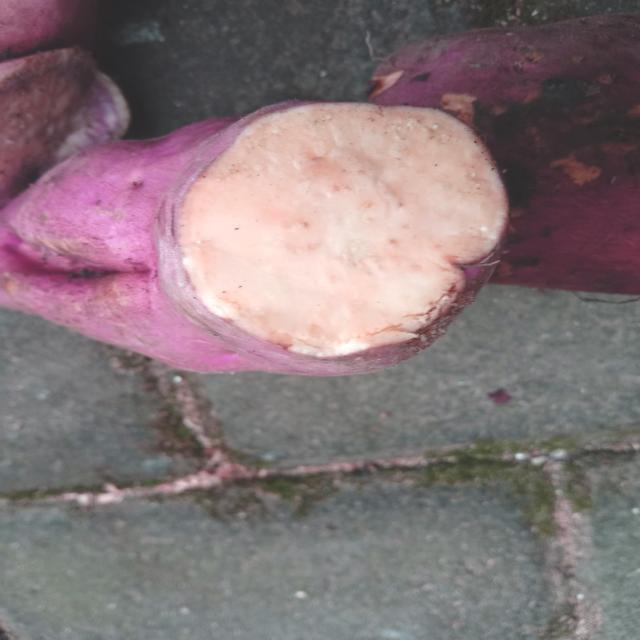Healthy Sweet Potato: (178, 102, 507, 356)
